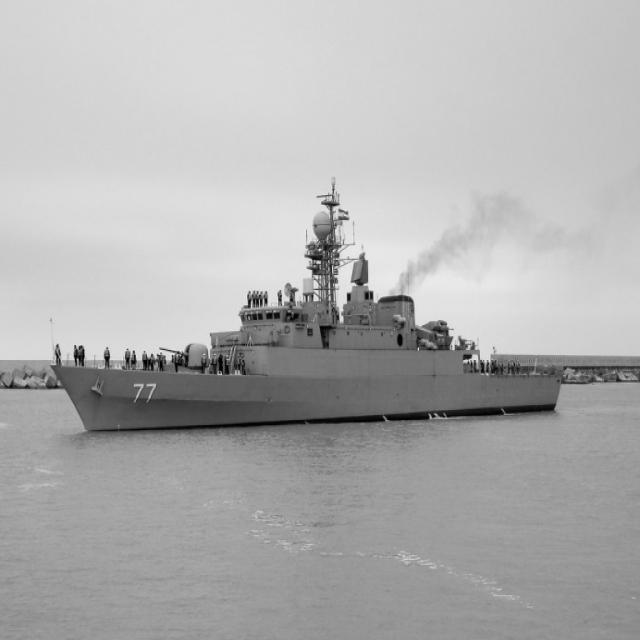Fragata: (49, 175, 567, 441)
